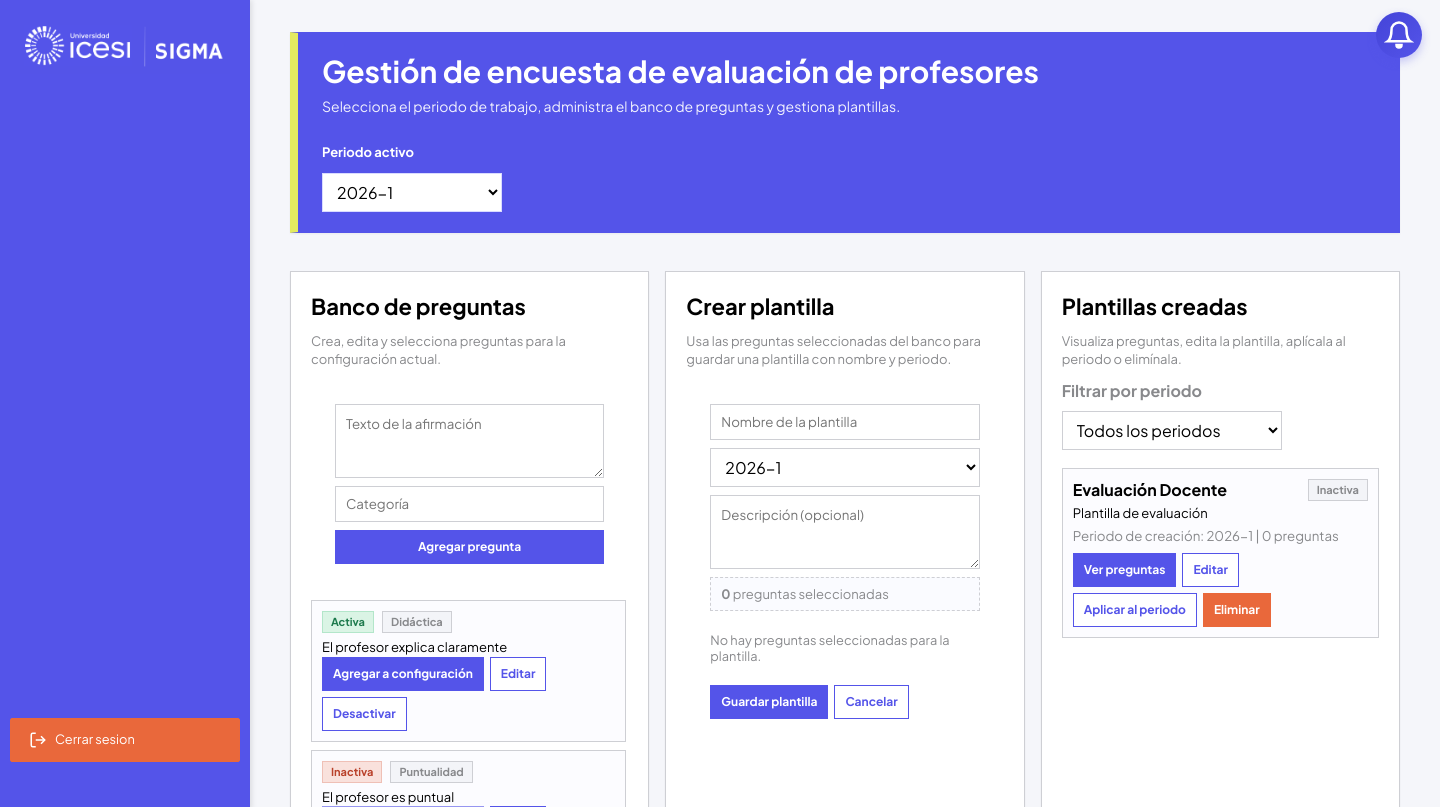
Scenario: GestionEncuestaProfesoresHU027 › permite editar plantilla y cancelar
Expected: the text "Evaluación Docente" is shown, left=1073, top=480, right=1227, bottom=500
Click the button "Editar" below "Periodo de creación:": (1211,570) left=1182, top=552, right=1239, bottom=586
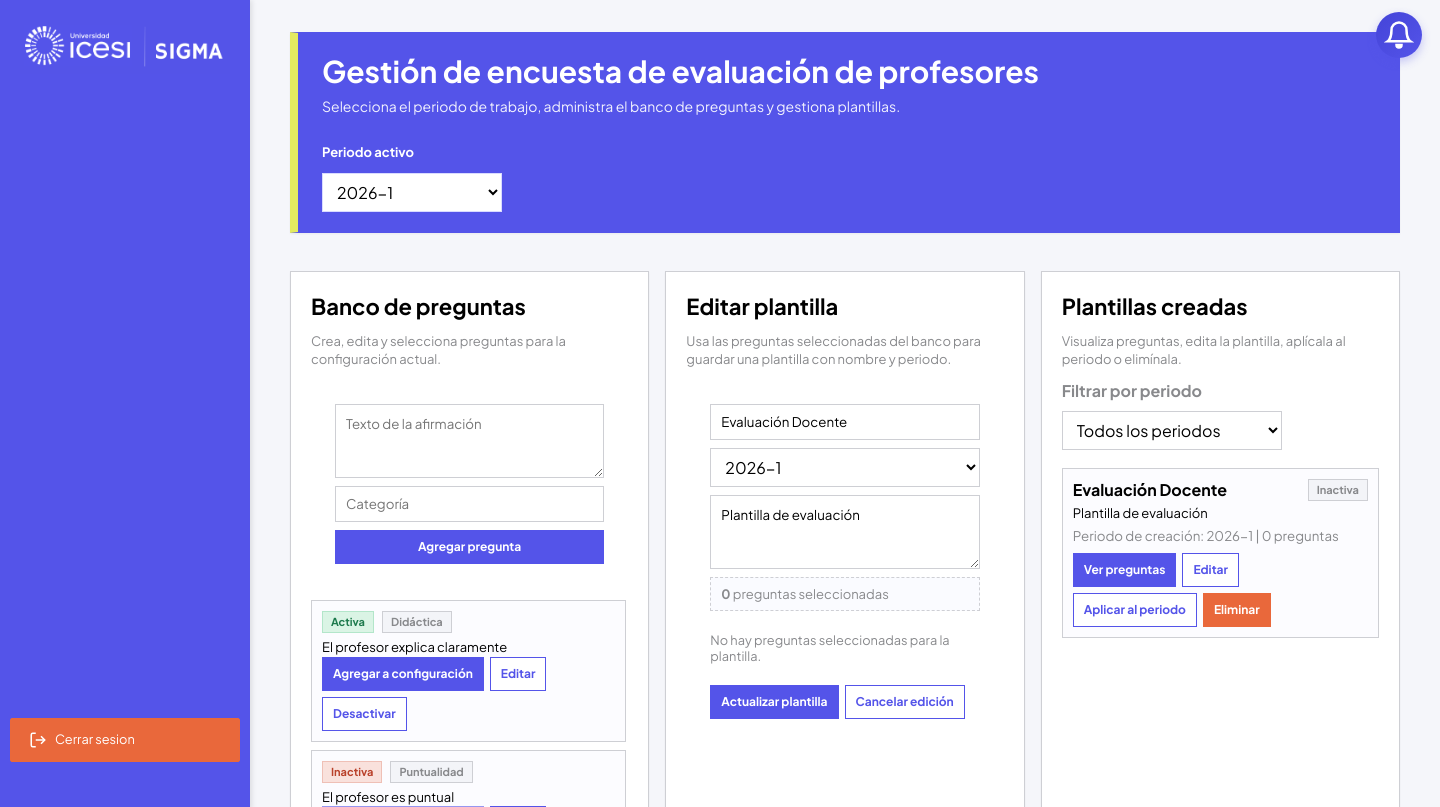
Now the button "Actualizar plantilla" is shown, box left=710, top=685, right=838, bottom=719
Click the button "Cancelar edición": (905,702) left=844, top=685, right=965, bottom=719
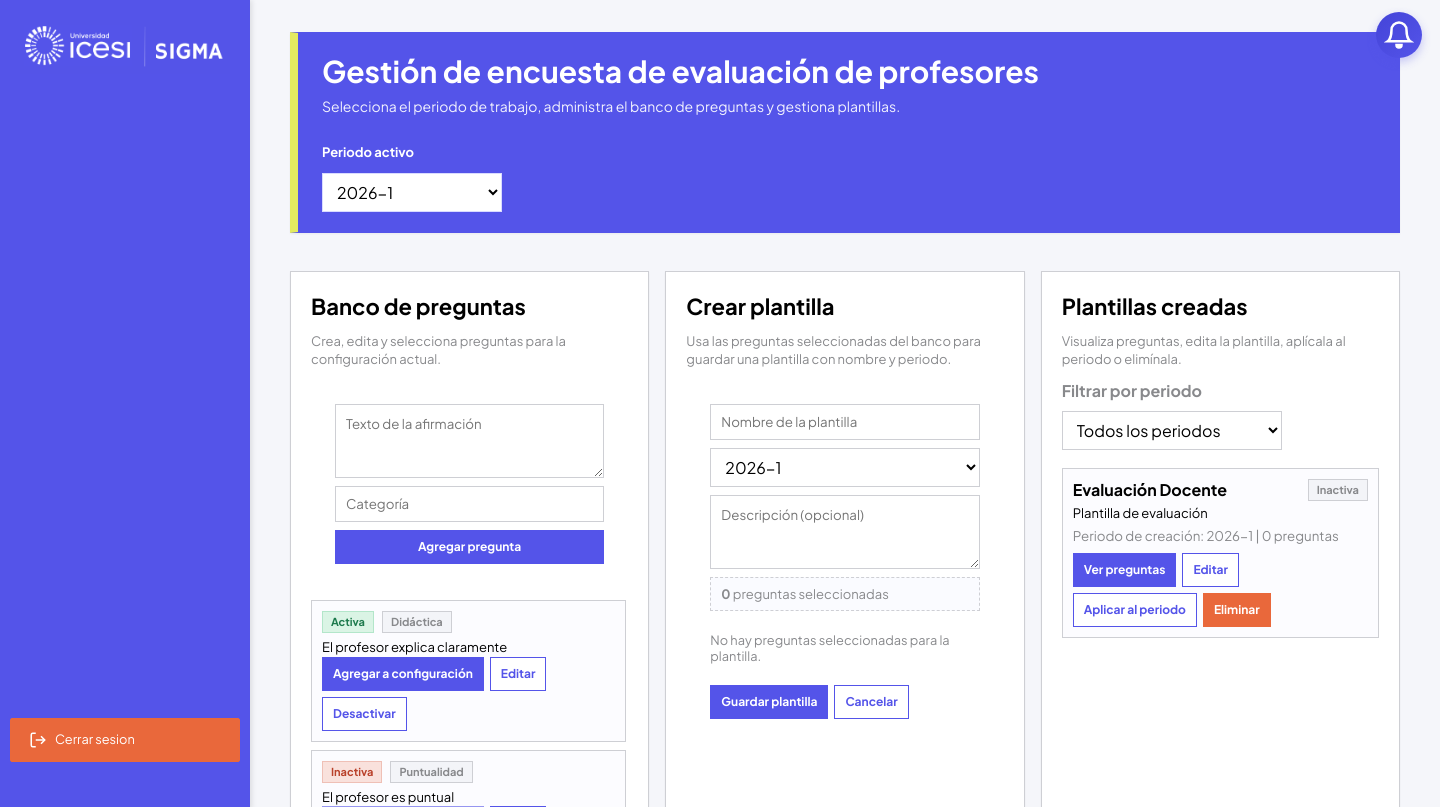
Now the button "Guardar plantilla" is shown, box left=710, top=685, right=828, bottom=719
